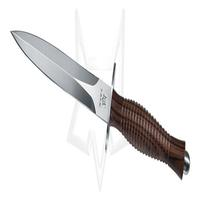knife: (8, 23, 195, 174)
